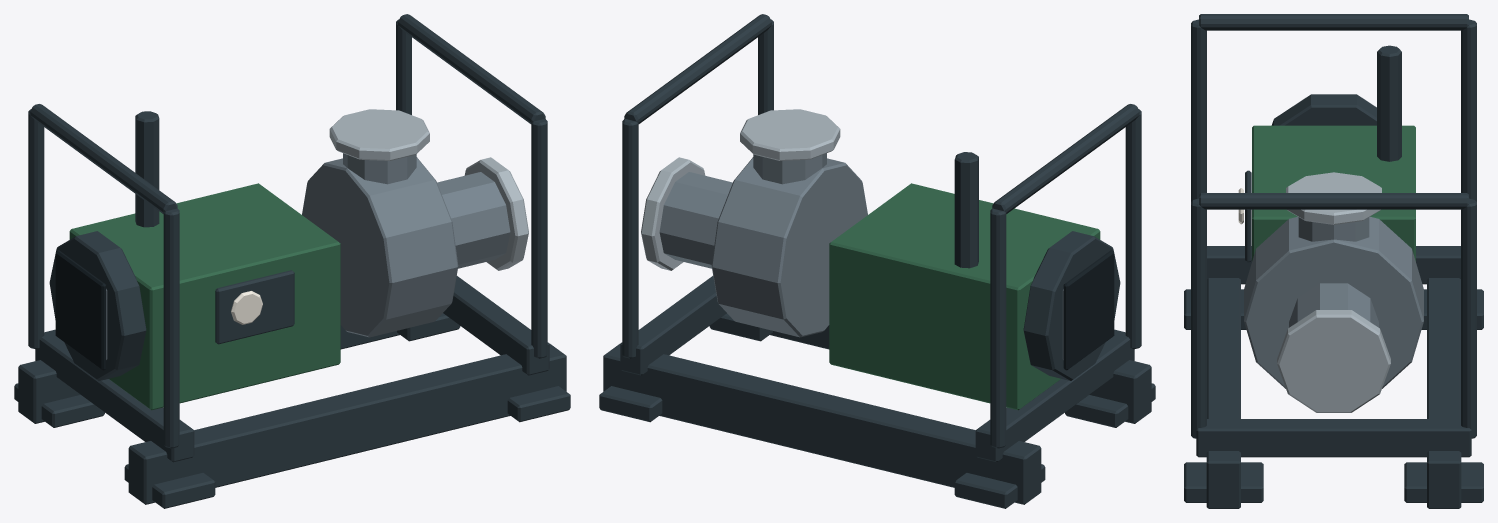
File: b07_diesel_dewatering_pump_skid.glb
3 views of the same model, side by side, from view 1: azimuth 30°, elevation 25°; view 2: azimuth 150°, elevation 25°; view 3: azimuth 270°, elevation 25° (orthographic).
Visible parts, largest first — view 1: b07_diesel_dewatering_pump_skid; view 2: b07_diesel_dewatering_pump_skid; view 3: b07_diesel_dewatering_pump_skid.
Boxes of the visible parts, box(x1,y1,x2,y2) form: b07_diesel_dewatering_pump_skid: box(14, 14, 570, 508); b07_diesel_dewatering_pump_skid: box(599, 14, 1155, 508); b07_diesel_dewatering_pump_skid: box(1184, 14, 1483, 508).
Bounding box in the file's own units: 1.85 × 1.25 × 1.13.
